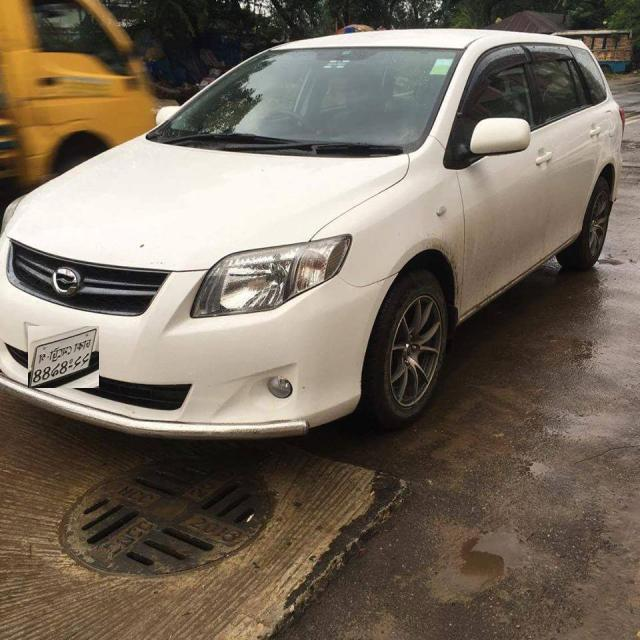numberplate: (28, 326, 99, 388)
